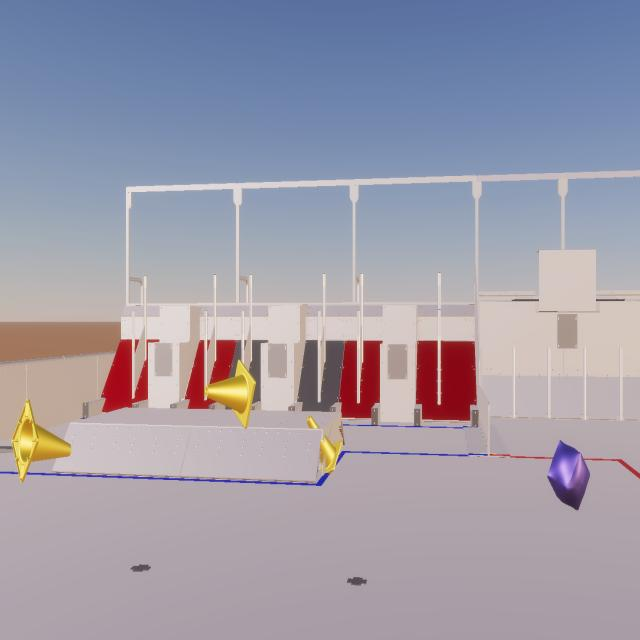frc_cone: (12, 399, 72, 482), (204, 360, 256, 428), (307, 415, 342, 473)
frc_cube: (547, 440, 590, 510)
